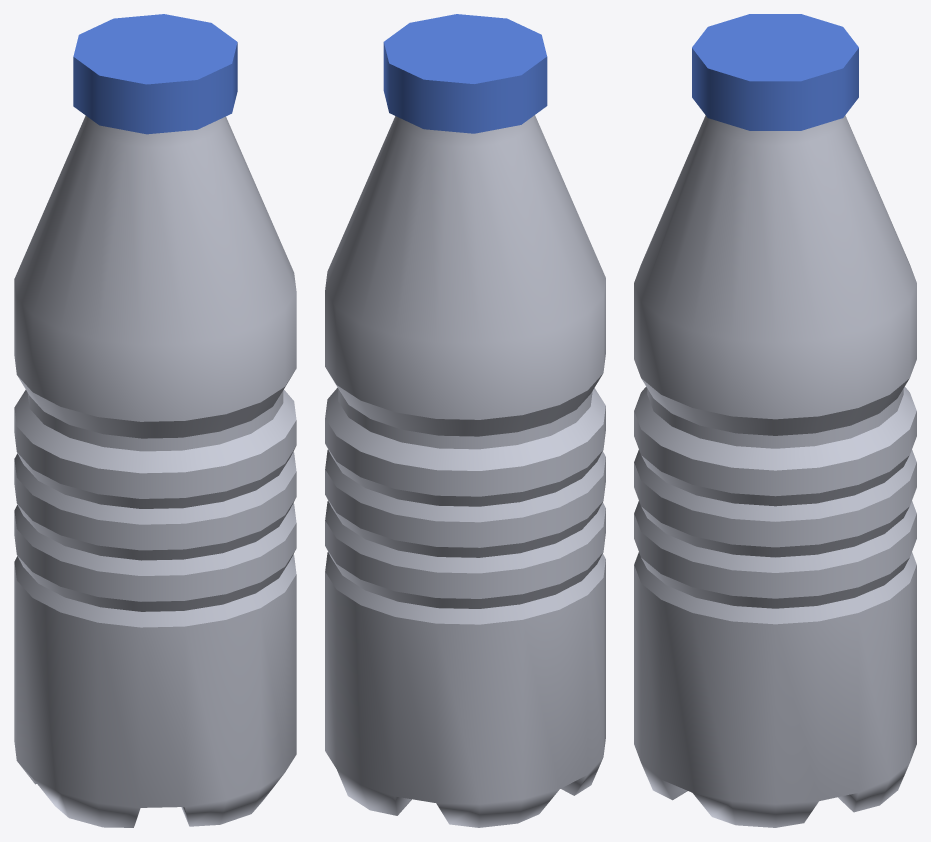
File: bouteille en plastique.fbx
3 views of the same model, side by side, from view 1: azimuth 30°, elevation 25°; view 2: azimuth 150°, elevation 25°; view 3: azimuth 270°, elevation 25° (orthographic).
Parts seen in each view (by area): view 1: petite_bouteille_en_plastique; view 2: petite_bouteille_en_plastique; view 3: petite_bouteille_en_plastique.
Boxes of the visible parts, x1,y1,x2,y2 form: petite_bouteille_en_plastique: (14, 14, 296, 827); petite_bouteille_en_plastique: (325, 14, 605, 827); petite_bouteille_en_plastique: (634, 14, 916, 827).
Bounding box in the file's own units: 7.34 × 20.8 × 7.34.
